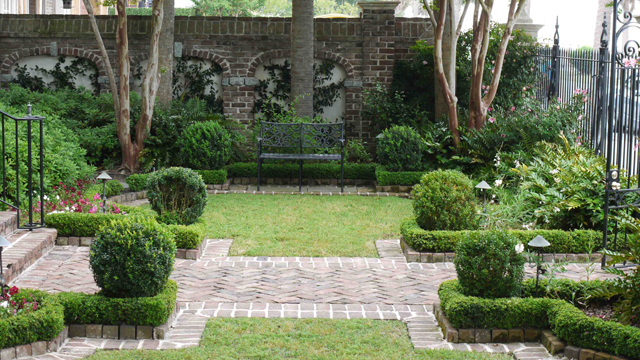plants: (491, 126, 605, 217), (89, 220, 174, 294), (453, 228, 527, 305), (408, 174, 484, 226), (148, 166, 213, 219), (177, 129, 239, 164), (374, 129, 429, 167)
